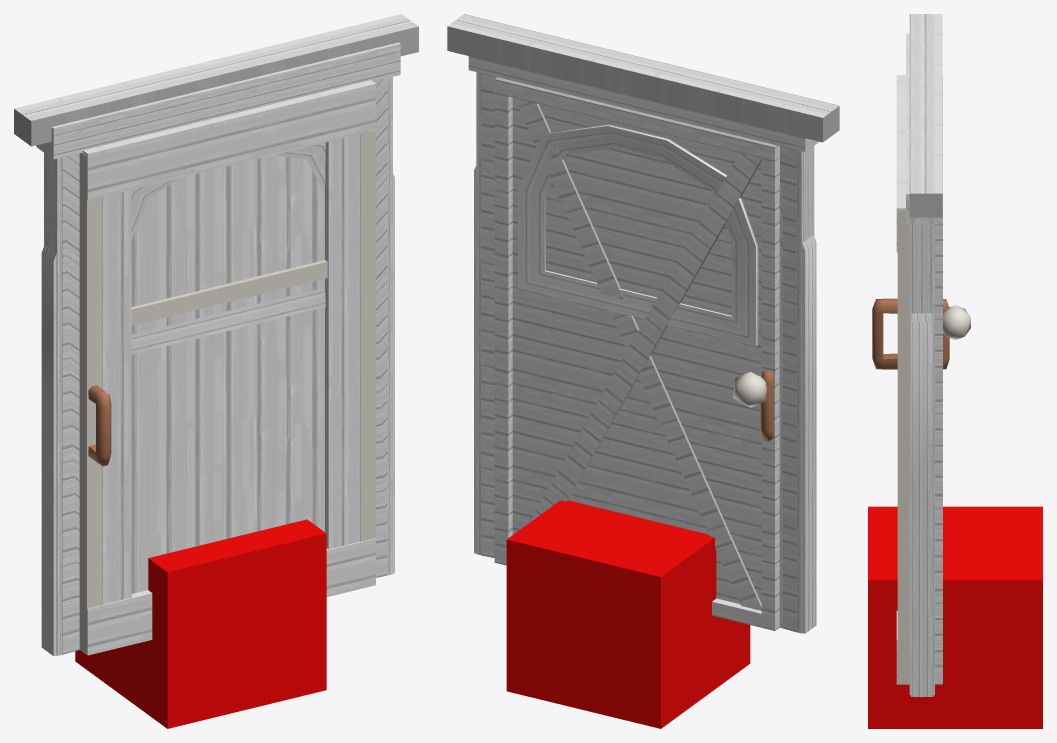
Rendered from House Door_Prefab.fbx.
3 views of the same model, side by side, from view 1: azimuth 30°, elevation 25°; view 2: azimuth 150°, elevation 25°; view 3: azimuth 270°, elevation 25° (orthographic). The views are drawn at different scales.
Parts seen in each view (by area): view 1: Door, Entry_Exit_Zone, BarnDoorFrame, GlassDoor, Door_Frame, ArchDoorFrame, ArchDoor; view 2: BarnDoor, Entry_Exit_Zone, BarnDoorFrame, ArchDoor, Door_Frame, ArchDoorFrame, GlassDoor; view 3: Entry_Exit_Zone, ArchDoorFrame, GlassDoor, BarnDoorFrame, Door_Frame, BarnDoor, Door, ArchDoor.
Part boxes in pixels (x1,y1,x2,y2): Door: (82,80,375,655); Entry_Exit_Zone: (75,519,326,728); BarnDoorFrame: (14,14,418,654); GlassDoor: (79,130,375,654); Door_Frame: (36,42,400,655); ArchDoorFrame: (41,174,394,656); ArchDoor: (131,142,325,354); BarnDoor: (494,77,779,630); Entry_Exit_Zone: (506,500,750,728); BarnDoorFrame: (447,14,839,632); ArchDoor: (518,124,766,407); Door_Frame: (468,56,819,633); ArchDoorFrame: (474,166,816,633); GlassDoor: (760,369,773,441); Entry_Exit_Zone: (868,506,1042,728); ArchDoorFrame: (911,313,933,696); GlassDoor: (872,211,949,684); BarnDoorFrame: (909,14,942,217); Door_Frame: (906,33,938,695); BarnDoor: (935,77,942,684); Door: (896,75,905,684); ArchDoor: (943,305,970,340).
Bounding box in the file's own units: 2.59 × 3.96 × 1.07.
Materials: 7 (3 with a texture image).
